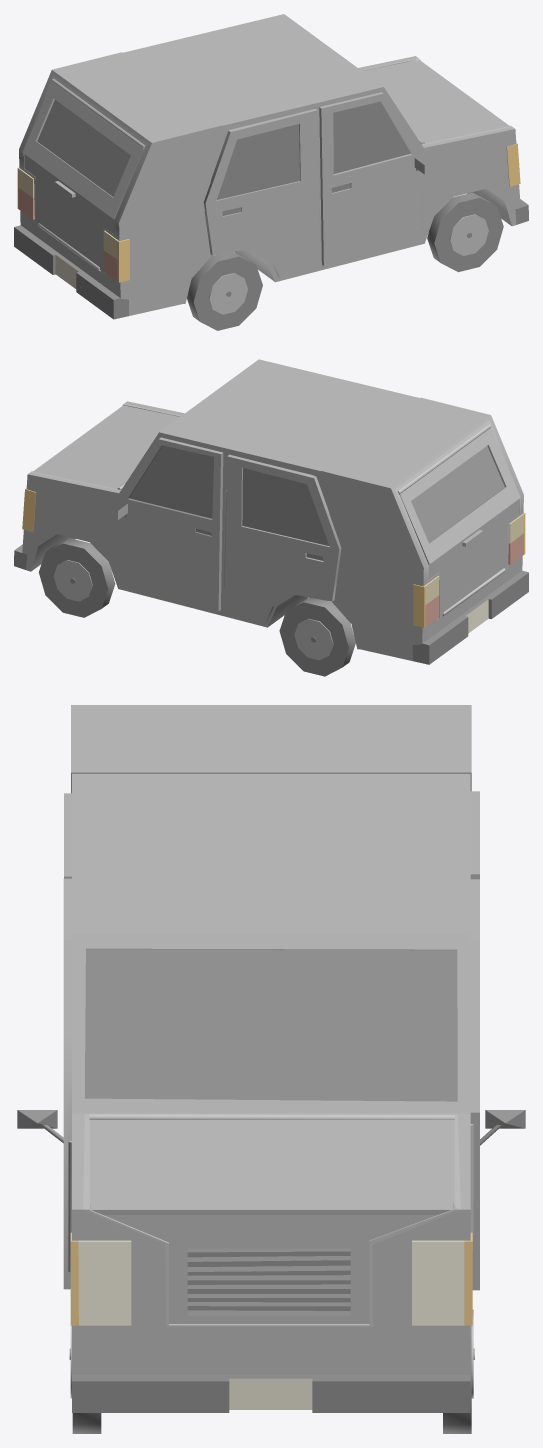
Rendered from kar24.fbx.
The picture shows the model from 3 angles, top to bottom: view 1: azimuth 30°, elevation 25°; view 2: azimuth 150°, elevation 25°; view 3: azimuth 270°, elevation 25°; orthographic projection. The views are drawn at different scales.
Parts seen in each view (by area): view 1: Boole_2, Boole_3, Cylinder_3, Cylinder_1, Cylinder_4, Boole, Boole_1, Cylinder_6, Cylinder_9; view 2: Boole_2, Boole_3, Cylinder, Cylinder_5, Cylinder_4, Boole, Boole_1, Cylinder_7, Cylinder_8; view 3: Boole_2, Boole, Boole_3, Cylinder_5, Cylinder_1, Cylinder_7, Cylinder.
Boxes of the visible parts, x1,y1,x2,y2 form: Boole_2: (14,14,528,319); Boole_3: (19,52,221,303); Cylinder_3: (203,108,320,277); Cylinder_1: (319,92,424,265); Cylinder_4: (22,78,145,219); Boole: (362,60,509,144); Boole_1: (24,154,114,272); Cylinder_6: (427,192,503,272); Cylinder_9: (187,252,262,330); Boole_2: (14,359,528,664); Boole_3: (321,397,523,649); Cylinder: (223,454,341,623); Cylinder_5: (118,437,223,611); Cylinder_4: (397,424,520,564); Boole: (33,405,179,489); Boole_1: (428,499,518,617); Cylinder_7: (38,538,115,617); Cylinder_8: (279,597,355,676); Boole_2: (70,773,472,1412); Boole: (89,1114,454,1323); Boole_3: (71,705,471,793); Cylinder_5: (470,879,525,1290); Cylinder_1: (17,878,71,1289); Cylinder_7: (443,1309,474,1433); Cylinder: (470,791,479,879).
Size of the model in its own units: 457 by 215 by 242.
